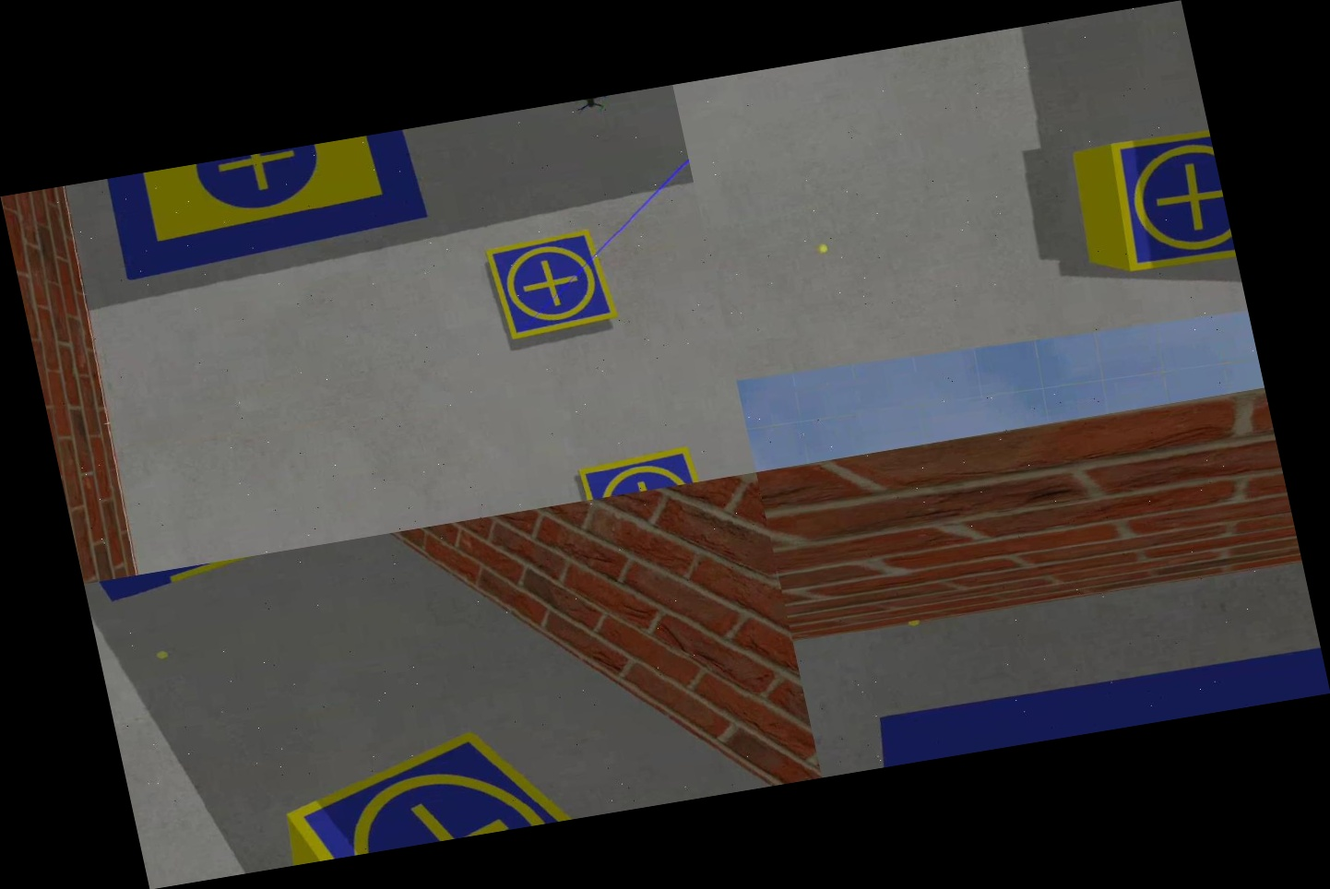large_base: (847, 619, 1330, 770), (97, 126, 448, 299)
small_base: (262, 693, 644, 866), (1099, 123, 1237, 282), (475, 220, 627, 353), (570, 438, 716, 502)
